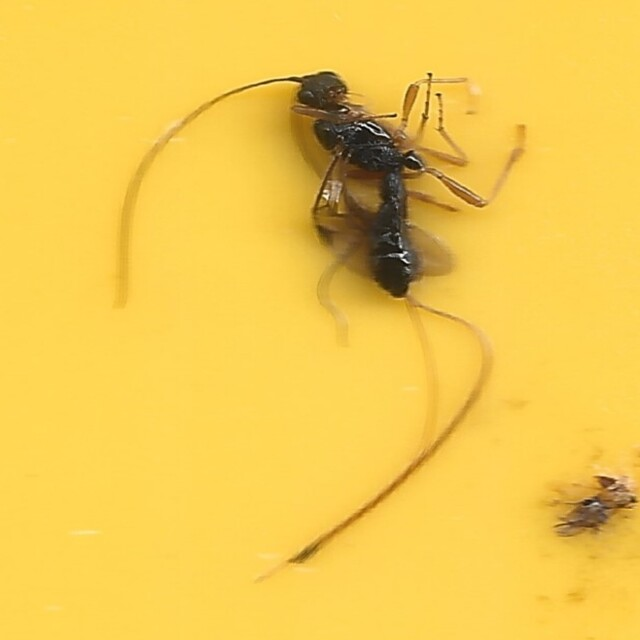Hymenoptera: (103, 75, 537, 565)
